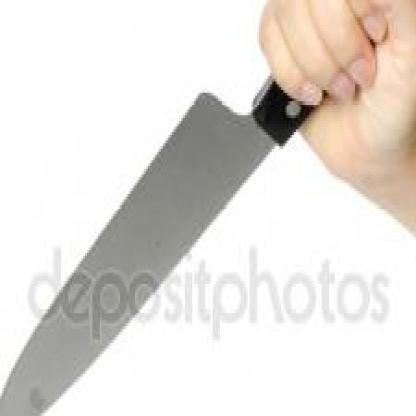knife: (0, 0, 385, 413)
